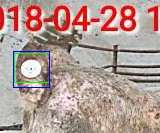text: (14, 53, 49, 82)
